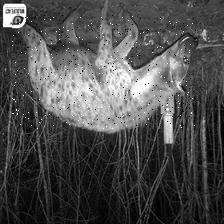hyena: (12, 14, 196, 128)
